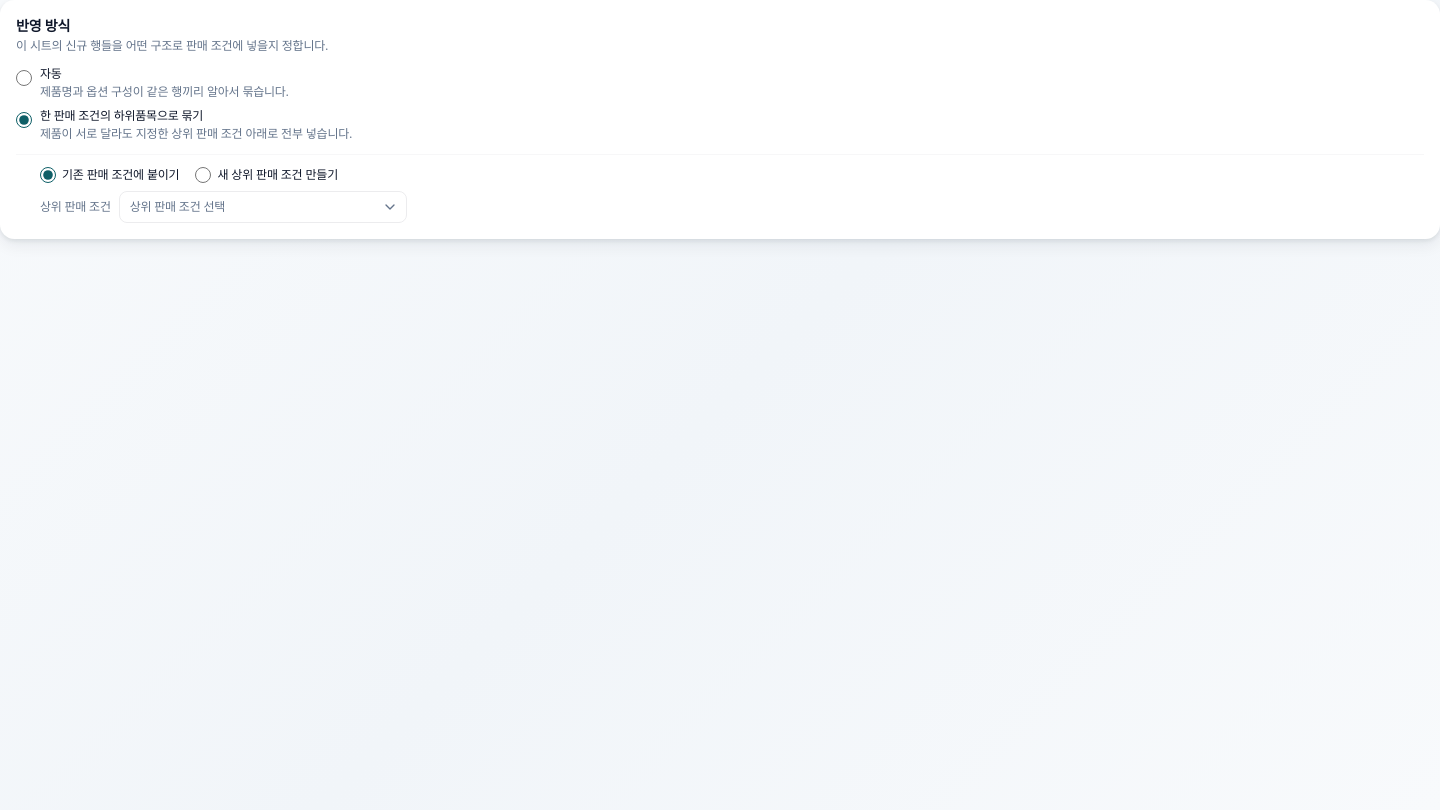
Test case: BundlePolicyControl › 하위품목 판매 조건은 상위 판매 조건 후보에서 제외된다
Click the dropdown labelled "상위 판매 조건": (177, 206) [119,191,407,223]
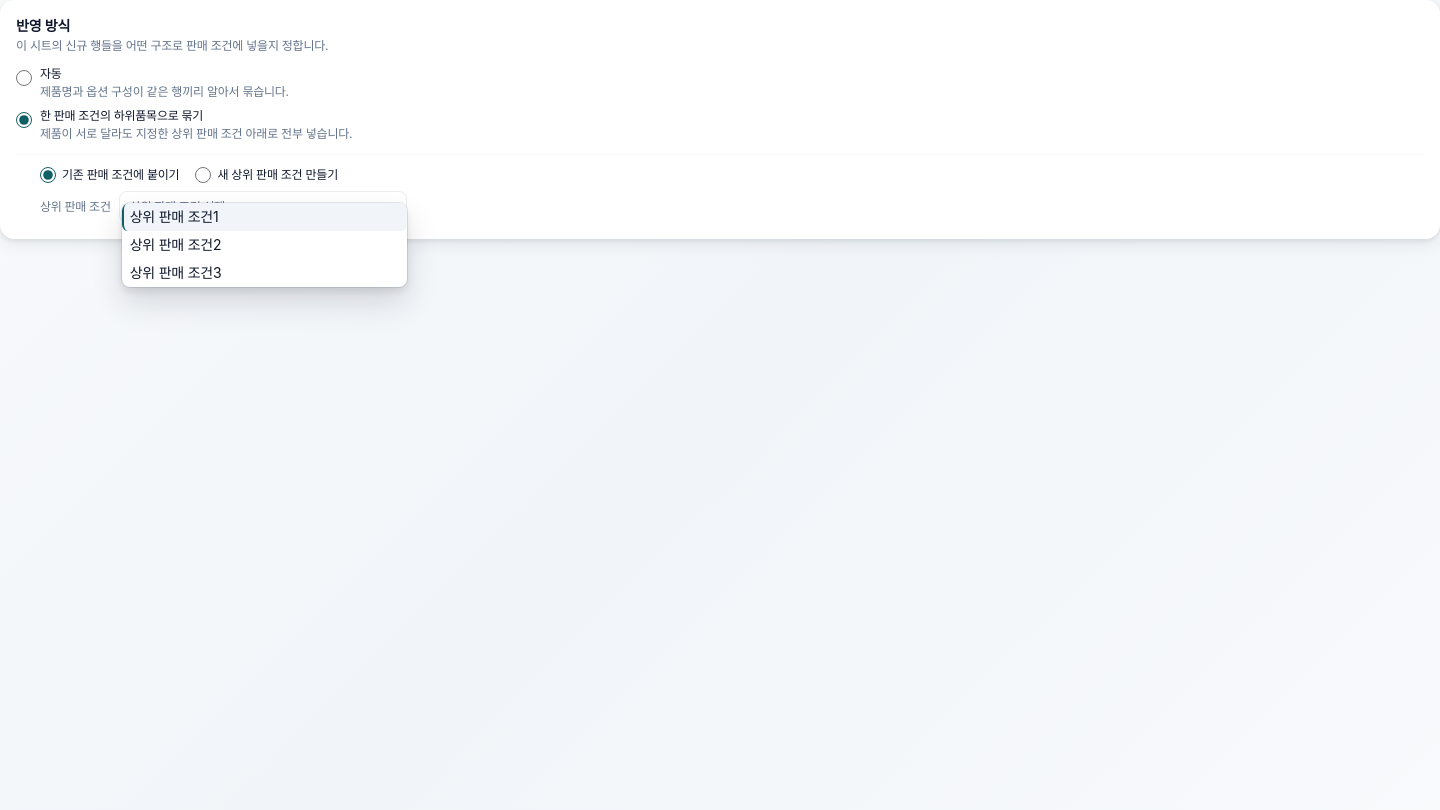
Result: the text "상위 판매 조건1" is shown at [130,207,218,227]
Result: the text "상위 판매 조건2" is shown at [130,235,221,255]
